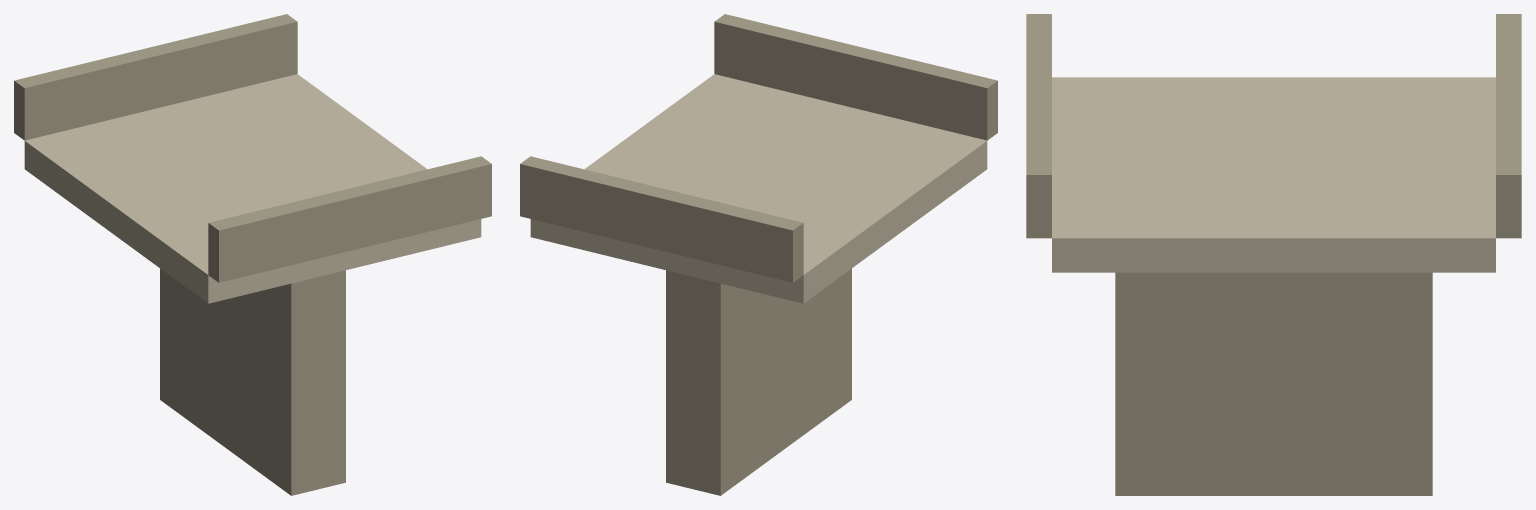
The model's file is siege-bridge.glb.
3 views of the same model, side by side, from view 1: azimuth 30°, elevation 25°; view 2: azimuth 150°, elevation 25°; view 3: azimuth 270°, elevation 25° (orthographic). The views are drawn at different scales.
Parts seen in each view (by area): view 1: Mesh_Deck, Mesh_Pier, Mesh_WestRail, Mesh_EastRail; view 2: Mesh_Deck, Mesh_Pier, Mesh_EastRail, Mesh_WestRail; view 3: Mesh_Deck, Mesh_Pier, Mesh_WestRail, Mesh_EastRail.
Part boxes in pixels (x1,y1,x2,y2): Mesh_Deck: [24, 74, 481, 303]; Mesh_Pier: [160, 268, 345, 495]; Mesh_WestRail: [14, 14, 297, 140]; Mesh_EastRail: [208, 156, 491, 282]; Mesh_Deck: [530, 74, 987, 303]; Mesh_Pier: [666, 268, 851, 495]; Mesh_EastRail: [714, 14, 997, 140]; Mesh_WestRail: [520, 156, 803, 282]; Mesh_Deck: [1052, 77, 1495, 272]; Mesh_Pier: [1115, 272, 1432, 495]; Mesh_WestRail: [1496, 14, 1521, 238]; Mesh_EastRail: [1026, 14, 1051, 238].
Size of the model in its own units: 6 by 6.7 by 7.8.
